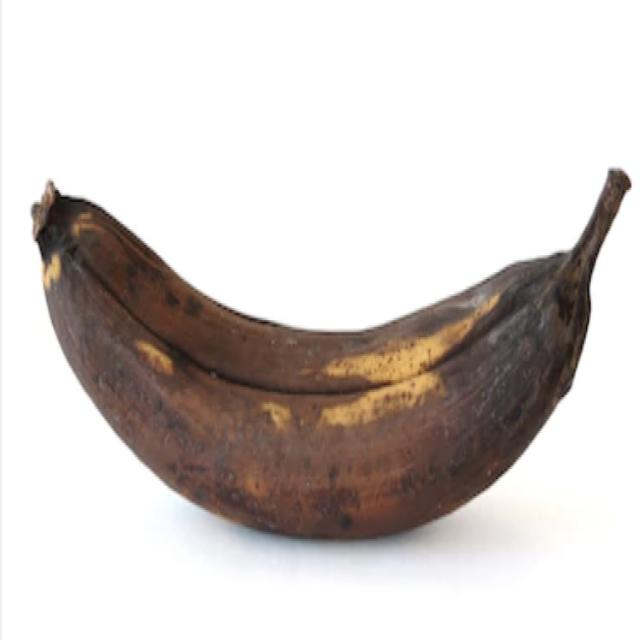Rotten: (18, 107, 636, 577)
